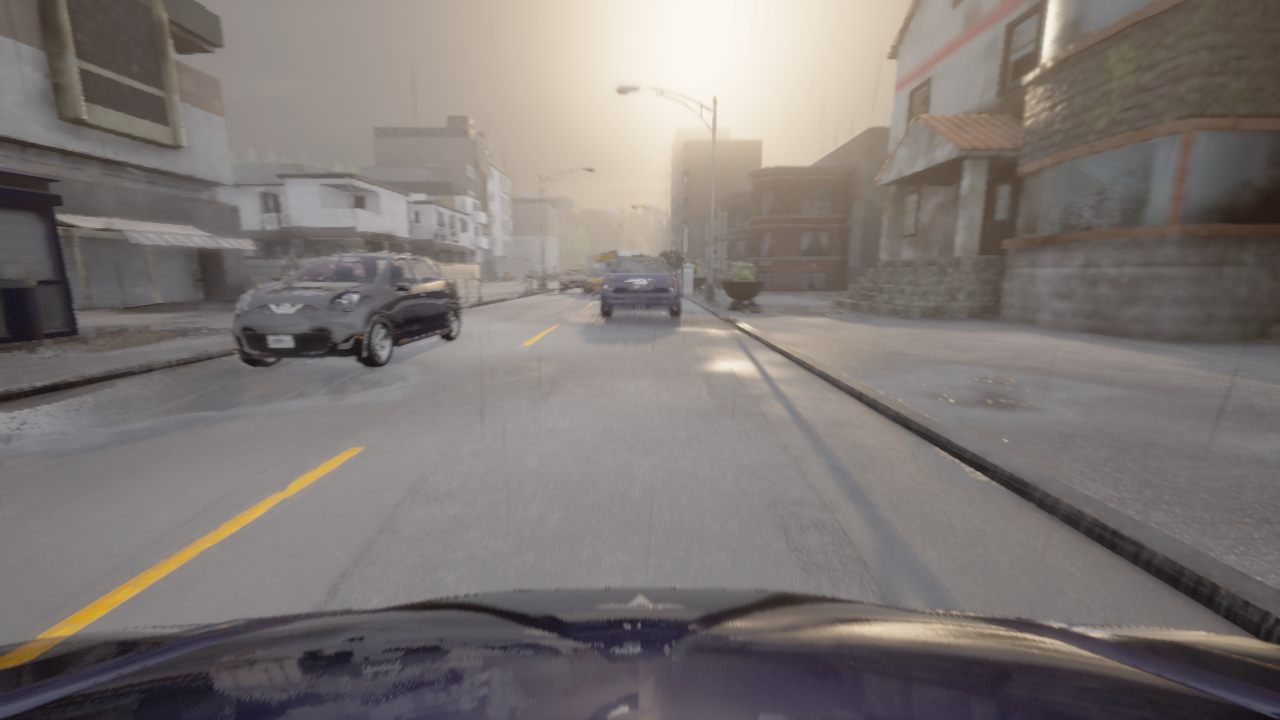cyclist: (0, 588, 1279, 719), (231, 252, 460, 367), (600, 251, 680, 318), (584, 249, 639, 292), (557, 268, 588, 293), (658, 249, 685, 271), (585, 271, 605, 294), (292, 260, 315, 273)
